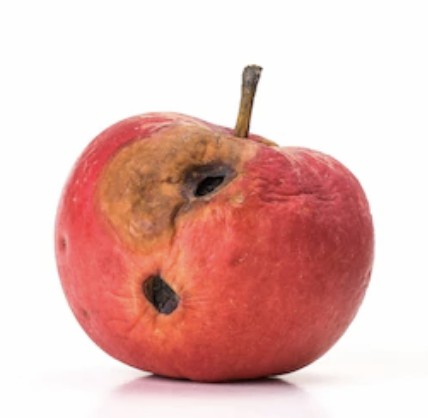rotten_apple: (54, 111, 375, 382)
